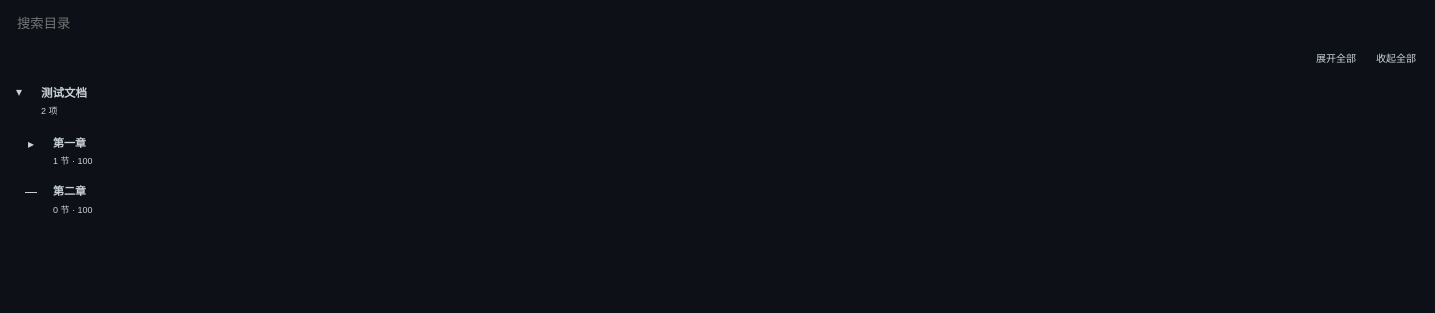
Test: DocumentOutlineTree › supports expand-all and collapse-all for the whole document
The width and height of the screenshot is (1435, 313).
Click the button "展开全部". click: point(1336, 58)
box: left=1309, top=47, right=1363, bottom=68
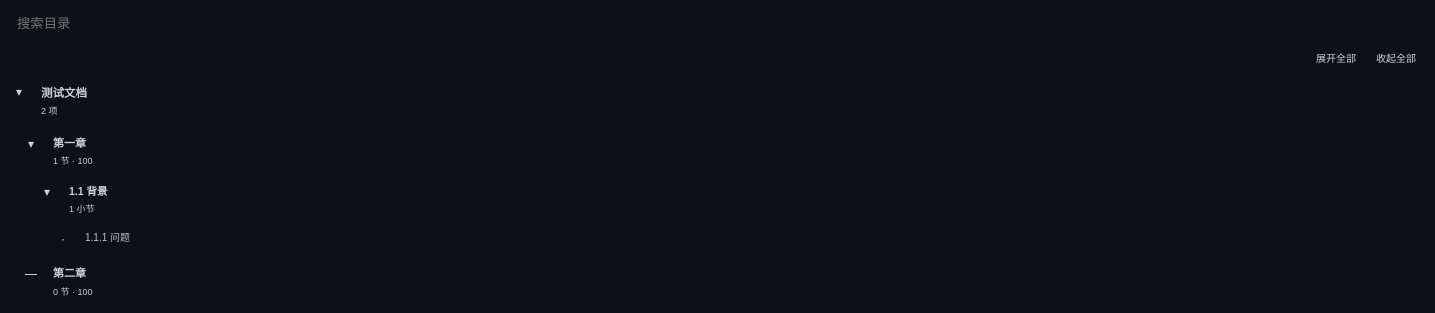
Result: the text "1.1.1 问题" is shown at left=85, top=232, right=130, bottom=243
Click the button "收起全部". click: point(1396, 58)
box: left=1369, top=47, right=1423, bottom=68
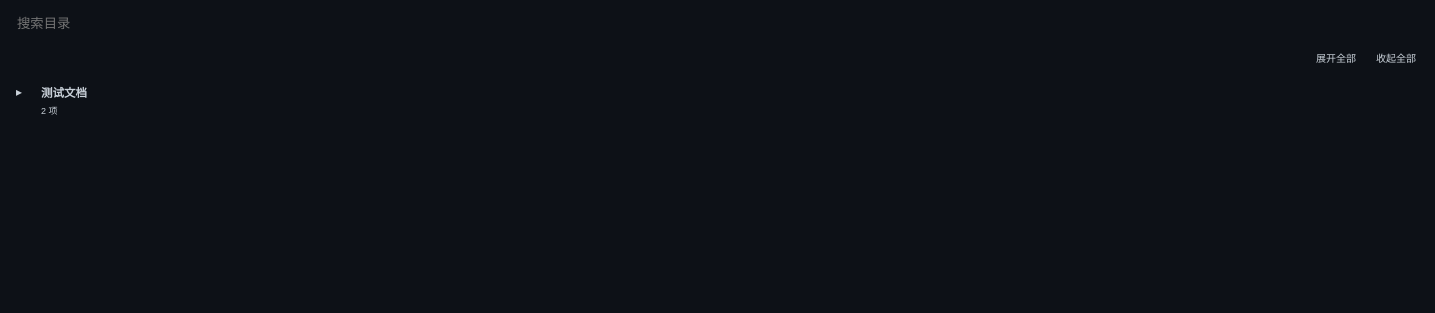
Expected: the text "测试文档" is shown, left=41, top=87, right=87, bottom=99
Result: the text "第一章" is gone
Click the button "展开全部". click: point(1336, 58)
box: left=1309, top=47, right=1363, bottom=68
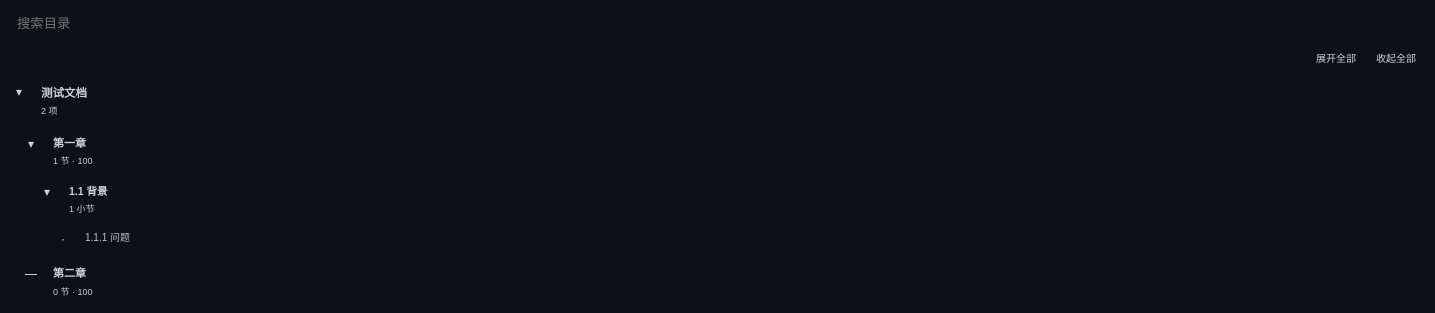
Result: the text "1.1.1 问题" is shown at left=85, top=232, right=130, bottom=243
